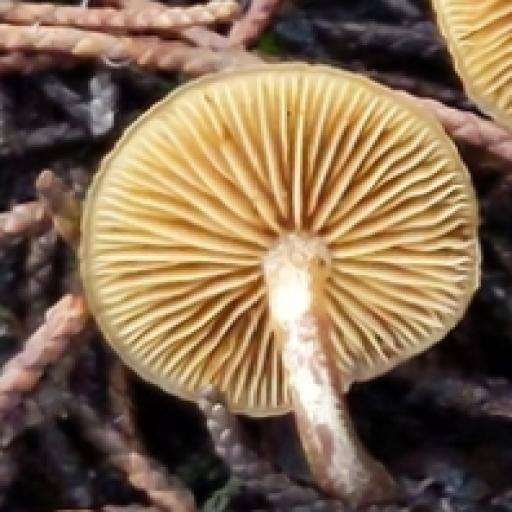mushroom: (60, 56, 490, 433)
